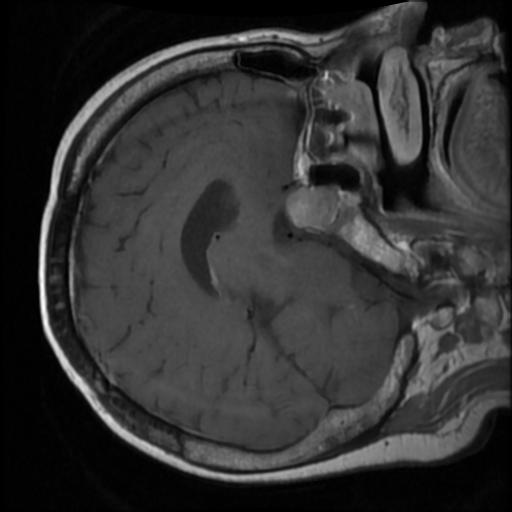pituitary tumour: (285, 185, 349, 236)
